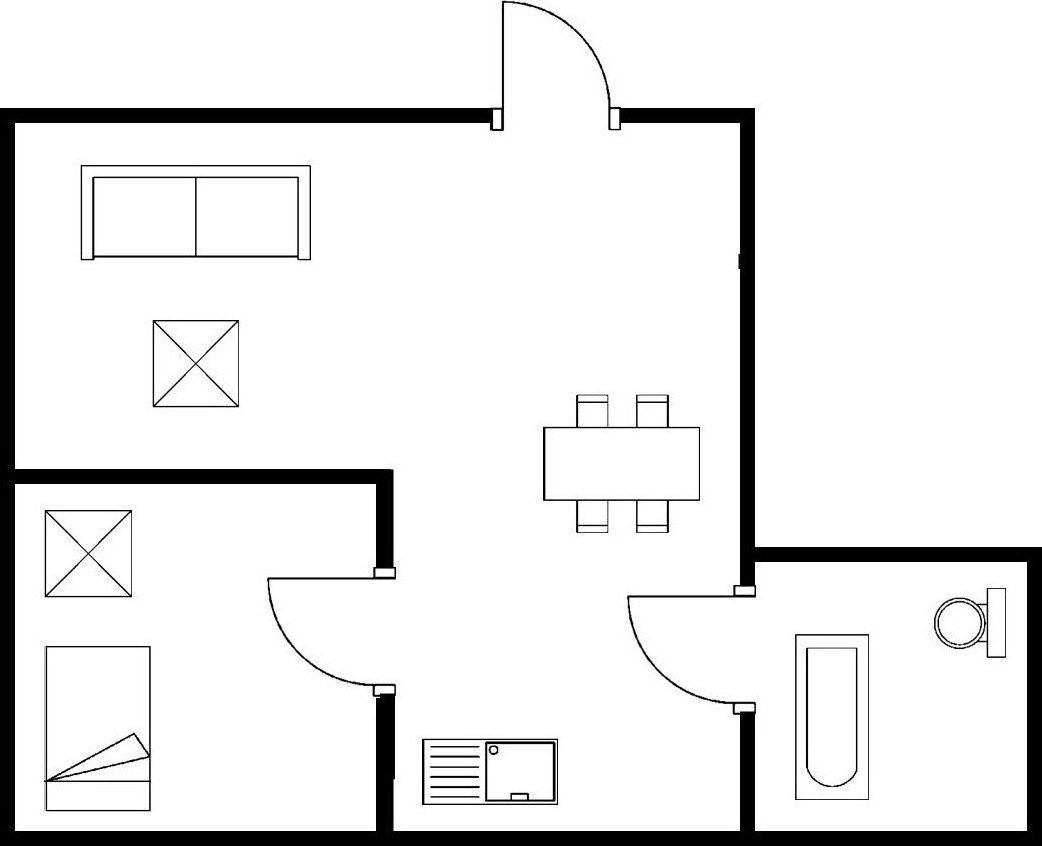bed: (40, 640, 158, 817)
coffee_table: (148, 315, 244, 415), (41, 505, 137, 601)
dining_table: (539, 389, 707, 539)
large_sink: (930, 584, 1011, 666)
large_sofa: (77, 160, 317, 268)
sink: (419, 735, 563, 809)
tub: (788, 629, 876, 807)
